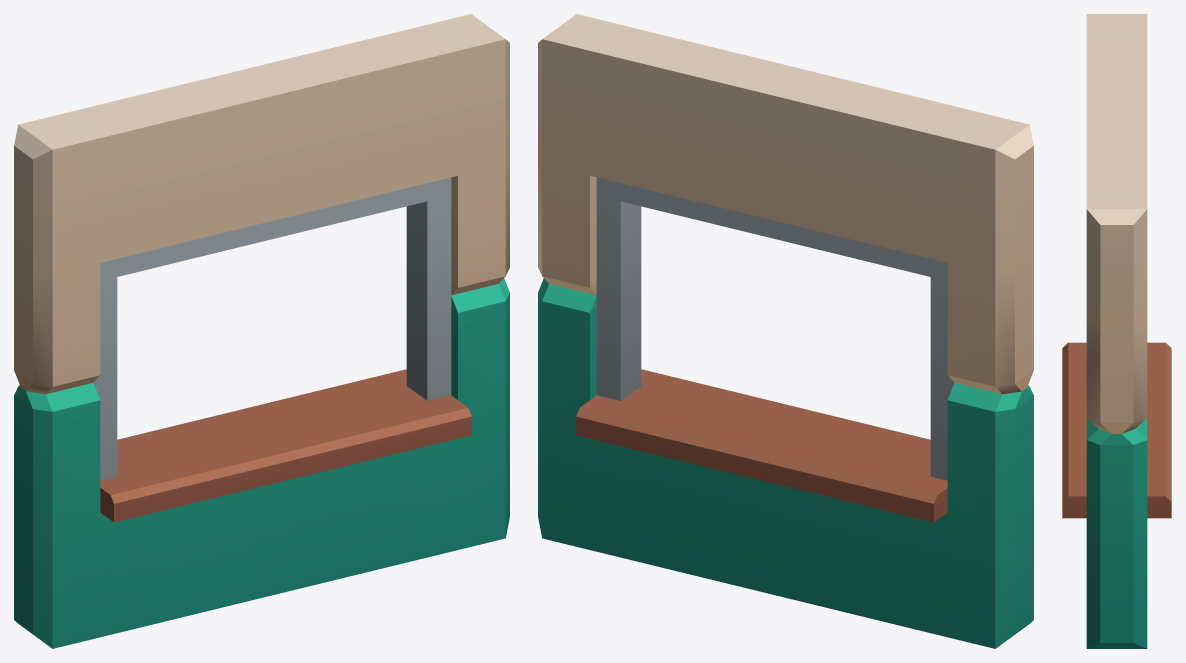
File: kaykit-restaurant-bits-wall-orderwindow.glb
3 renders of one model, left to right at view 1: azimuth 30°, elevation 25°; view 2: azimuth 150°, elevation 25°; view 3: azimuth 270°, elevation 25°, orthographic. The views are drawn at different scales.
Parts seen in each view (by area): view 1: wall_orderwindow; view 2: wall_orderwindow; view 3: wall_orderwindow.
Boxes of the visible parts, left/top/right/bottom form: wall_orderwindow: left=14, top=14, right=509, bottom=648; wall_orderwindow: left=538, top=14, right=1033, bottom=648; wall_orderwindow: left=1062, top=14, right=1171, bottom=648.
Bounding box in the file's own units: 4 × 4 × 0.8999.
1 material, 1 textured.
